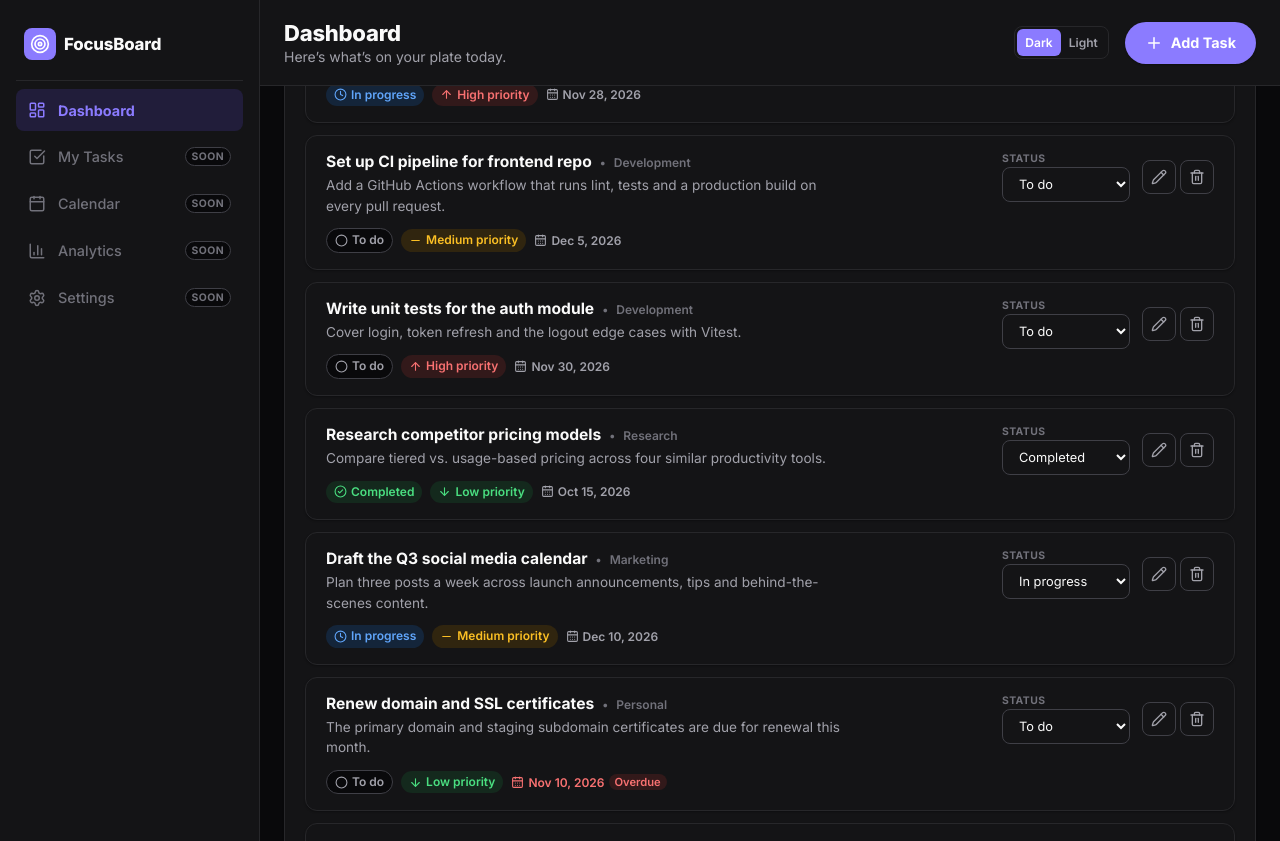
Test case: FocusBoard App › deletes a task after confirmation and updates stats
(page scrolled)
Click the button named "delete task": (1197, 450) [1180,433,1214,467]
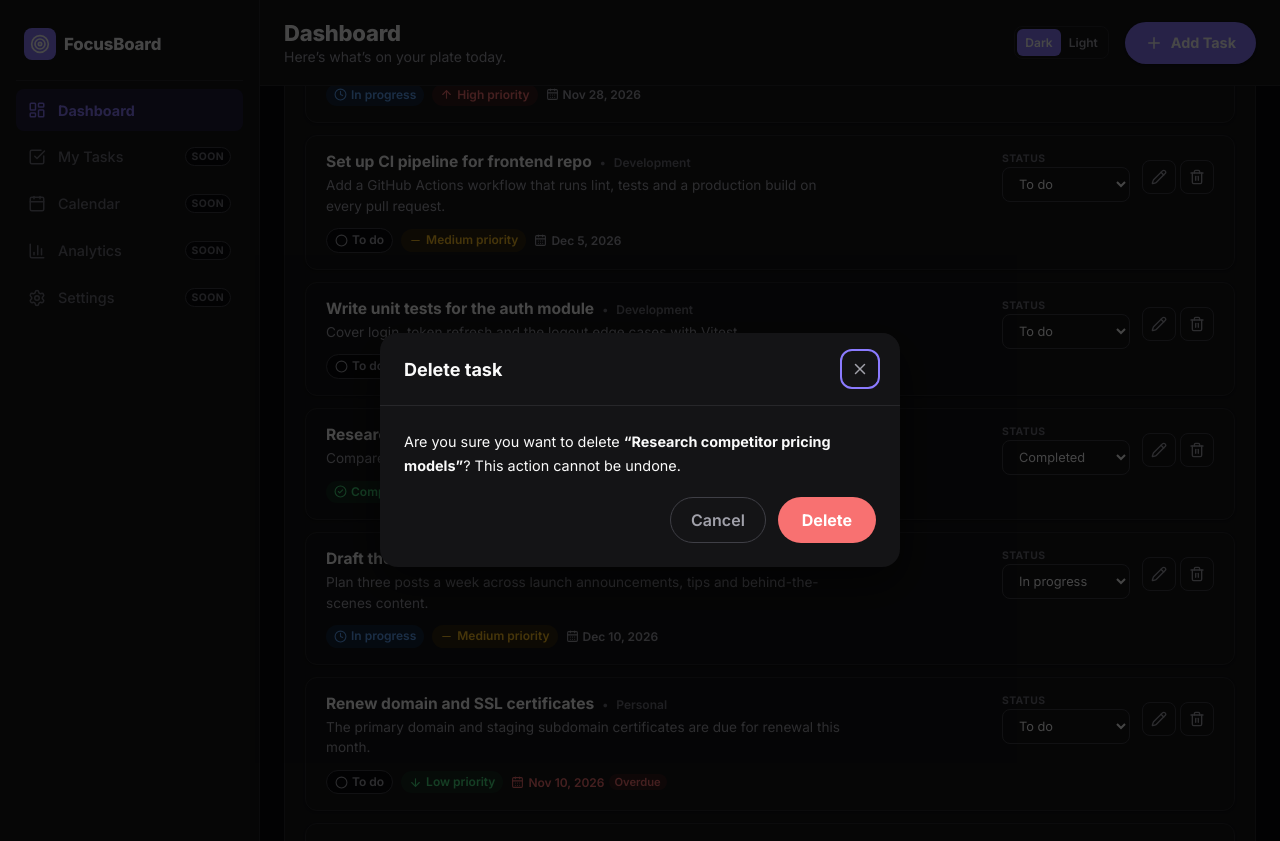
Click the button "Delete": (827, 520) [778,496,876,542]
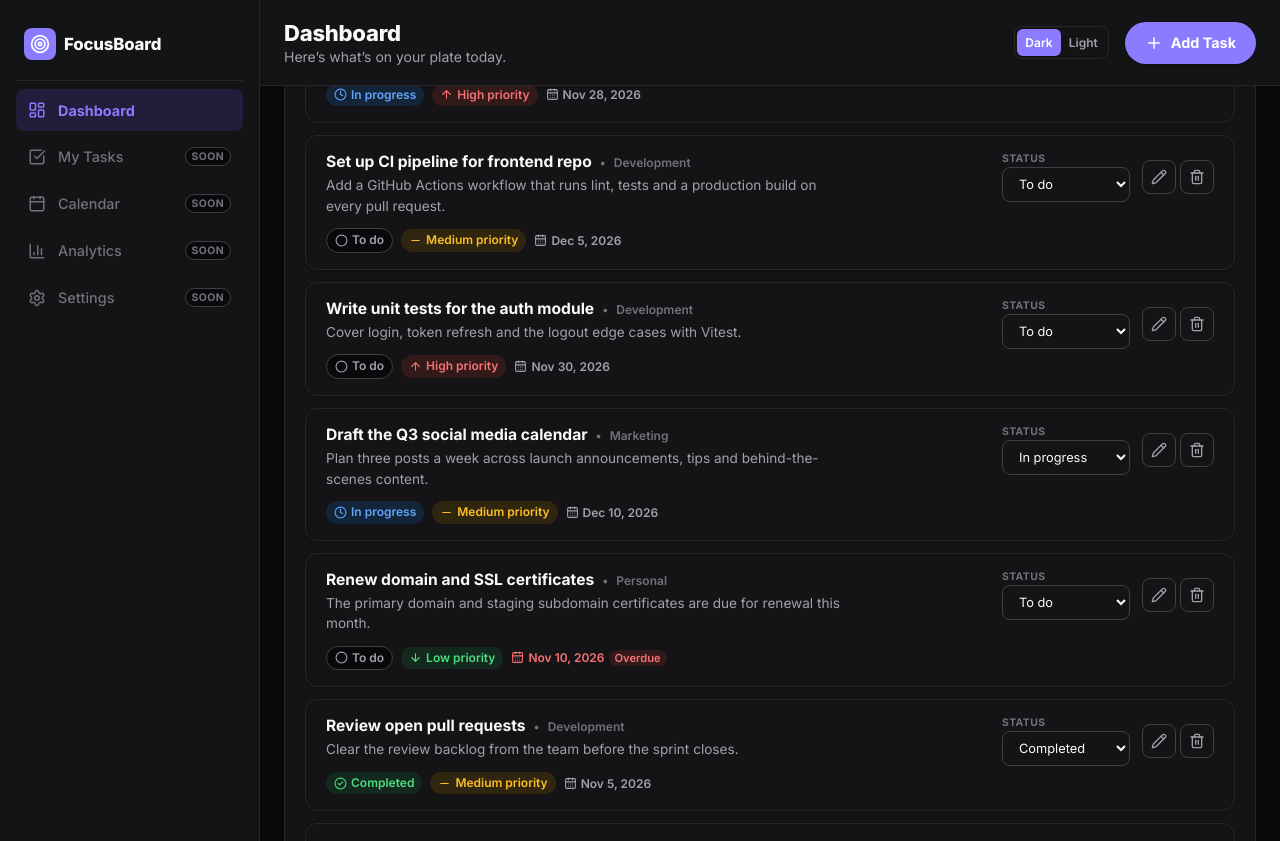
Expected: the dialog is gone
Expected: the heading "Research competitor pricing models" is gone
